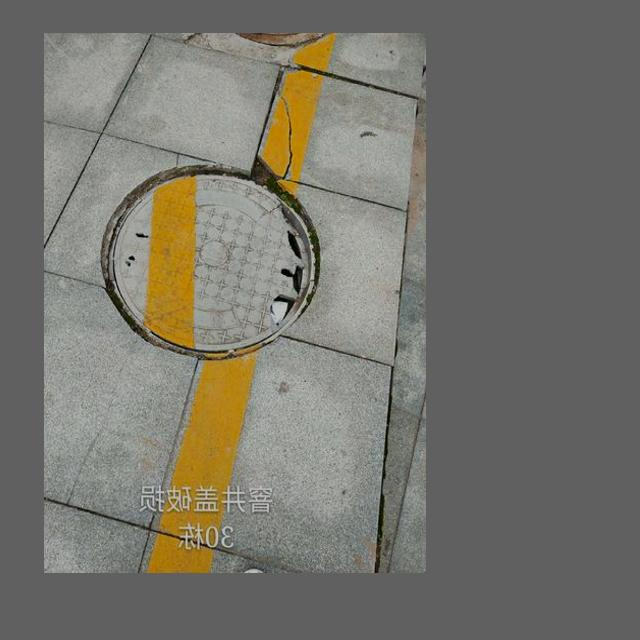broke: (94, 164, 330, 366)
